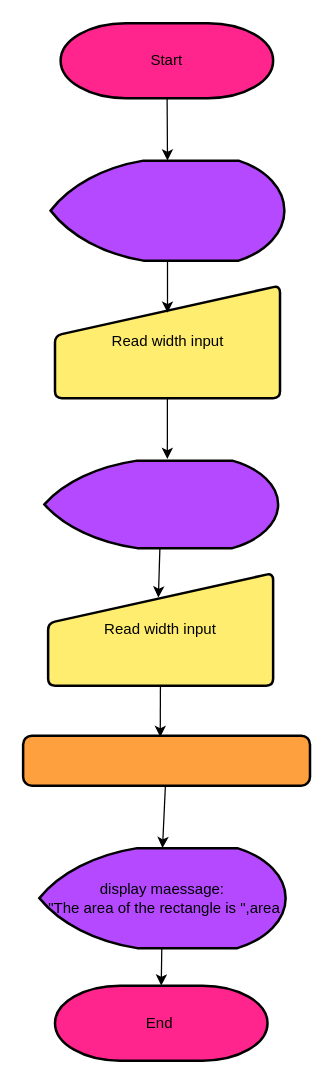
The diagram is 333 pixels wide and 1083 high, and some of its shapes have lost their labels. The shapes that lost their labels are listed below. From the top down, each one's centre as x and y in pixels, then its label:
point 167,210: display maessage: "Enter widht of the retangle"
point 160,504: display maessage: "Enter hight of the retangle"
point 166,760: Calculate area: area = width * height
